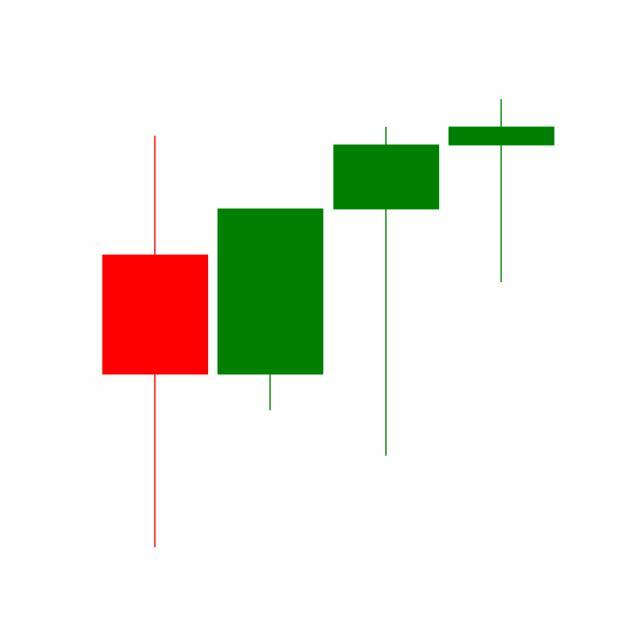Spinning Top: (444, 98, 560, 286)
